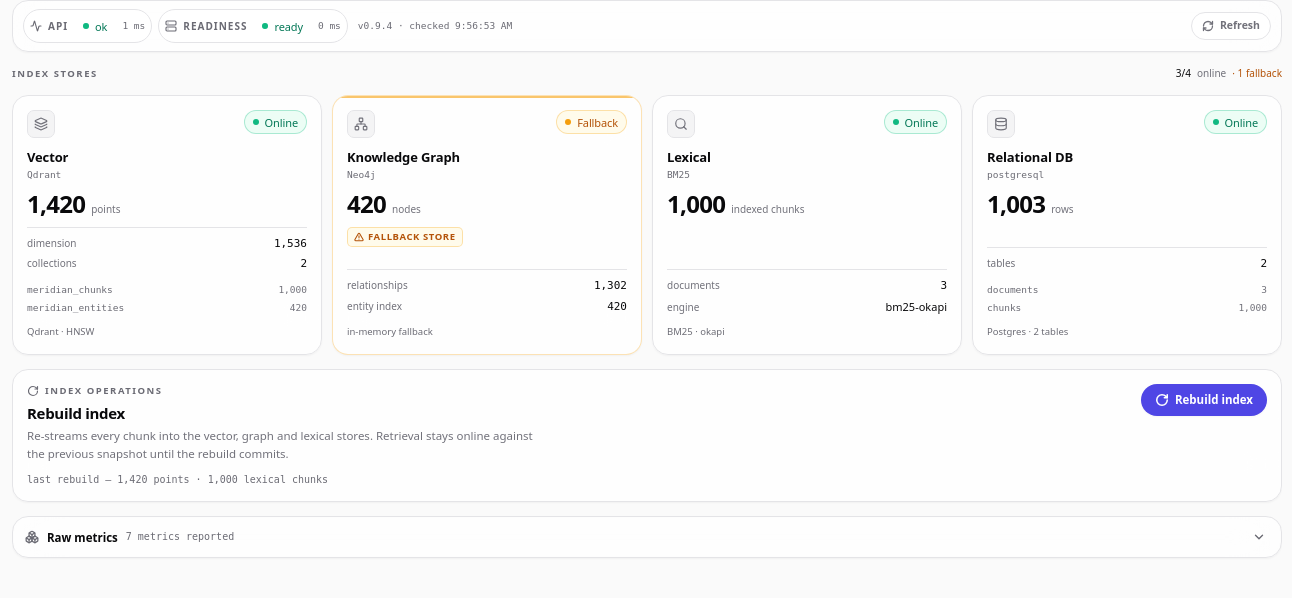
IndexTelemetryPanel › runs a rebuild with live progress and a per-store result
The image size is (1292, 598).
Later steps or results of the test are not shown.
What coordinates should you click on to do the following:
click the button "Rebuild index"
I would click on:
 (1204, 400)
Its box is x1=1141 y1=384 x2=1267 y2=416.
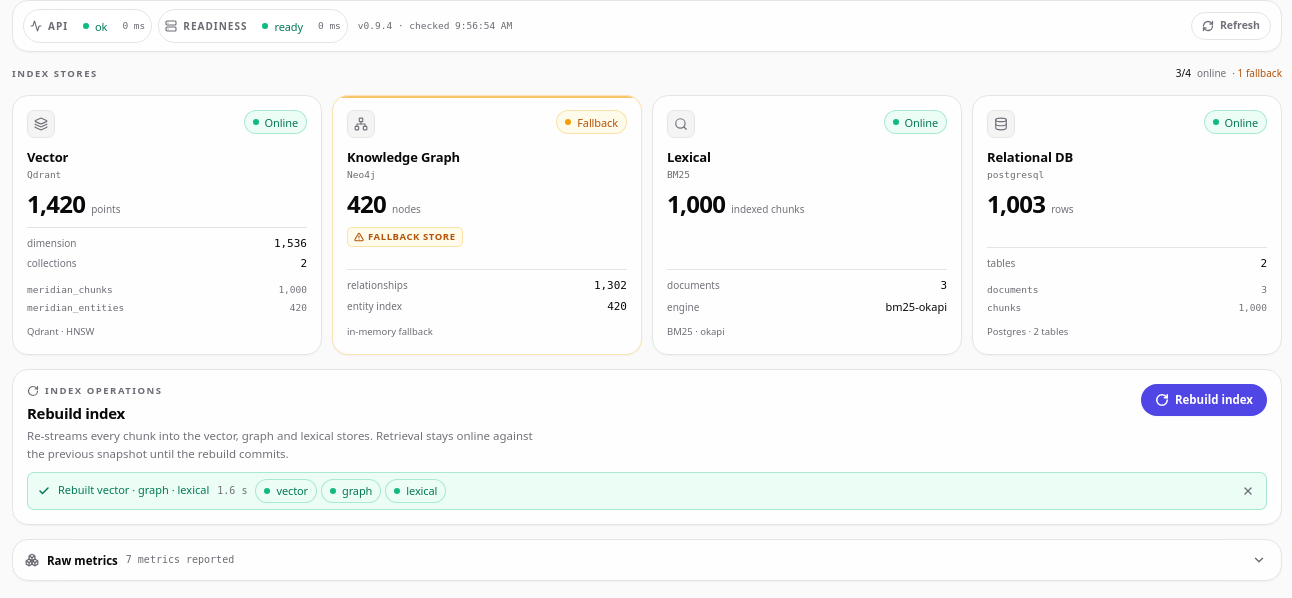
Expected: the text "Vector" is shown, x1=27 y1=148 x2=68 y2=166
Expected: the text "Rebuilt vector · graph · lexical" is shown, x1=58 y1=482 x2=209 y2=499
Expected: the text "1.6 s" is shown, x1=217 y1=483 x2=247 y2=498
